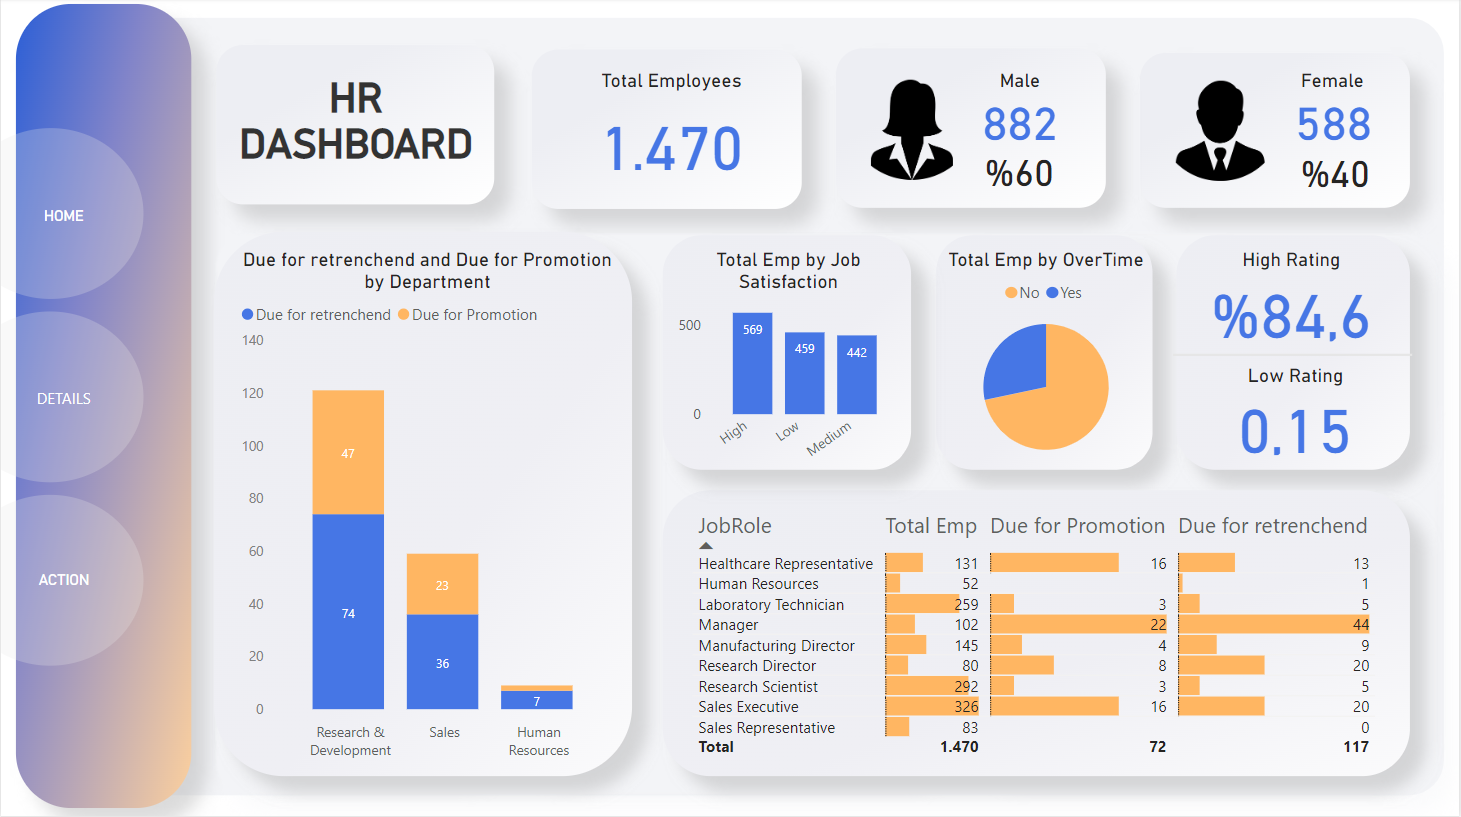

Layout of this report page (visuals, bound fields, positions):
{"tool":"powerbi","page":{"name":"DETAILS","canvas":[1280,720],"ordinal":1},"visuals":[{"type":"columnChart","fields":{"Category":["HR Analytics Data.Department"],"Y":["All Measures.Due for retrenchend","All Measures.Due for Promotion"]},"box":[205.5,219.5,338,455.7],"z":0},{"type":"columnChart","fields":{"Category":["HR Analytics Data.Job Satisfaction"],"Y":["All Measures.Total Emp"]},"box":[589.2,219.5,204.6,203.7],"z":1000},{"type":"pieChart","fields":{"Y":["All Measures.Total Emp"],"Category":["HR Analytics Data.OverTime"]},"box":[823.6,219.5,187.9,195.8],"z":2000},{"type":"tableEx","fields":{"Values":["HR Analytics Data.JobRole","All Measures.Total Emp","All Measures.Due for Promotion","All Measures.Due for retrenchend"]},"box":[601.5,445.2,618.1,230],"z":3000},{"type":"shape","box":[1029.1,307.3,209.9,12.3],"z":4000},{"type":"card","title":"Low Rating","fields":{"Values":["All Measures.% Low emp rating"]},"box":[1064.2,321.4,144.9,85.2],"z":5000},{"type":"card","title":"High Rating","fields":{"Values":["All Measures.% High emp rating"]},"box":[1057.2,219.5,151.9,86.9],"z":6000},{"type":"card","title":"Total Employees","fields":{"Values":["All Measures.Total Emp"]},"box":[510.1,62.3,157.2,106.2],"z":7000},{"type":"card","title":"Male","fields":{"Values":["All Measures.Male"]},"box":[830.6,62.3,128.2,69.4],"z":8000},{"type":"card","title":"Female","fields":{"Values":["All Measures.Female"]},"box":[1102.8,62.3,132.6,69.4],"z":9000},{"type":"card","fields":{"Values":["All Measures.% Male"]},"box":[855.2,127.3,78.1,48.3],"z":10000},{"type":"card","fields":{"Values":["All Measures.% Female"]},"box":[1132.7,127.3,78.1,49.2],"z":11000},{"type":"pageNavigator","box":[6.1,116.8,98.3,470.6],"z":12000},{"type":"textbox","title":"HR DASHBOARD","box":[197.6,65.9,228.3,109.8],"z":13000},{"type":"image","box":[756,65.9,96.6,93.1],"z":13001},{"type":"image","box":[1030,62.3,91.3,96.6],"z":13002}]}

Visuals, with their boxes in screenshot pixels (x1, y1, x2, y2), scaled from the page's 1280x720 canvas onto the 1461x817 screenshot:
columnChart - HR Analytics Data.Department x All Measures.Due for retrenchend: box=[235, 249, 620, 766]
columnChart - HR Analytics Data.Job Satisfaction x All Measures.Total Emp: box=[673, 249, 906, 480]
pieChart - All Measures.Total Emp x HR Analytics Data.OverTime: box=[940, 249, 1155, 471]
tableEx - HR Analytics Data.JobRole x All Measures.Total Emp: box=[687, 505, 1392, 766]
shape: box=[1175, 349, 1414, 363]
"Low Rating" card: box=[1215, 365, 1380, 461]
"High Rating" card: box=[1207, 249, 1380, 348]
"Total Employees" card: box=[582, 71, 762, 191]
"Male" card: box=[948, 71, 1094, 149]
"Female" card: box=[1259, 71, 1410, 149]
card - All Measures.% Male: box=[976, 144, 1065, 199]
card - All Measures.% Female: box=[1293, 144, 1382, 200]
pageNavigator: box=[7, 133, 119, 667]
"HR DASHBOARD" textbox: box=[226, 75, 486, 199]
image: box=[863, 75, 973, 180]
image: box=[1176, 71, 1280, 180]
